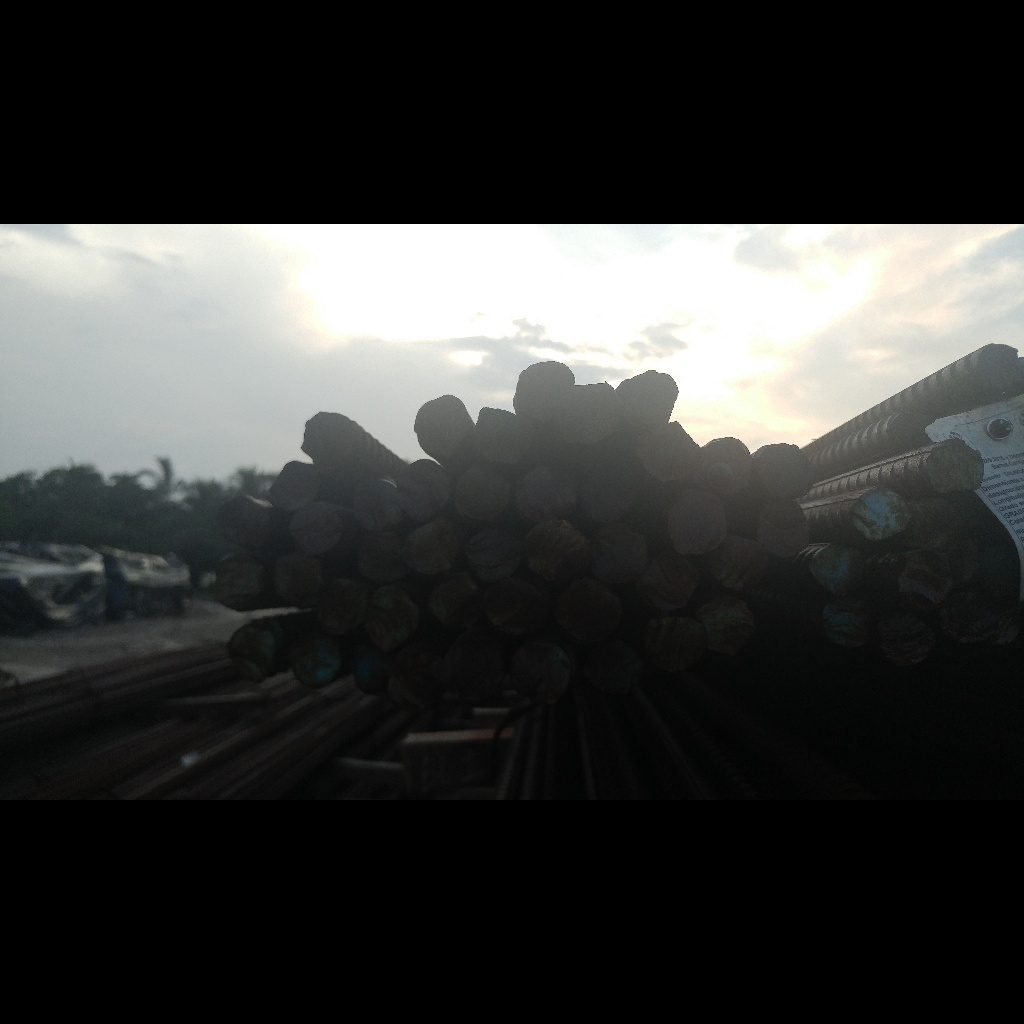dipstick: (578, 455, 645, 525), (524, 518, 589, 587), (558, 581, 626, 645), (666, 489, 728, 559), (513, 462, 577, 526), (639, 421, 701, 482), (637, 554, 702, 612), (557, 383, 617, 445), (469, 407, 532, 466), (488, 582, 553, 639), (361, 587, 418, 652), (590, 529, 651, 588), (463, 524, 526, 581), (617, 371, 677, 430), (641, 616, 704, 672), (396, 459, 451, 523), (415, 393, 469, 458), (877, 614, 939, 670), (927, 437, 985, 496), (517, 362, 575, 421), (708, 533, 769, 589), (696, 596, 756, 652), (942, 584, 997, 645), (398, 518, 458, 573), (754, 444, 812, 500), (852, 487, 911, 540), (433, 575, 488, 630), (808, 545, 865, 598), (701, 437, 753, 495), (220, 492, 272, 550), (819, 598, 876, 650), (294, 630, 345, 688), (756, 499, 808, 555), (519, 647, 570, 704), (289, 503, 346, 554), (228, 624, 279, 681), (935, 530, 985, 587), (456, 468, 509, 521), (314, 580, 362, 638), (898, 553, 953, 603), (215, 558, 265, 613), (299, 414, 354, 463), (975, 342, 1024, 394), (353, 480, 399, 531), (276, 559, 320, 609), (355, 535, 396, 582), (354, 653, 398, 695), (286, 459, 315, 511), (887, 414, 930, 449)
